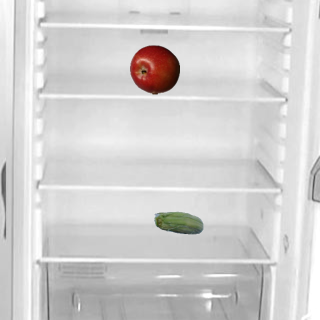Apple Braeburn: (129, 44, 179, 94)
Corn Husk: (153, 199, 203, 249)
